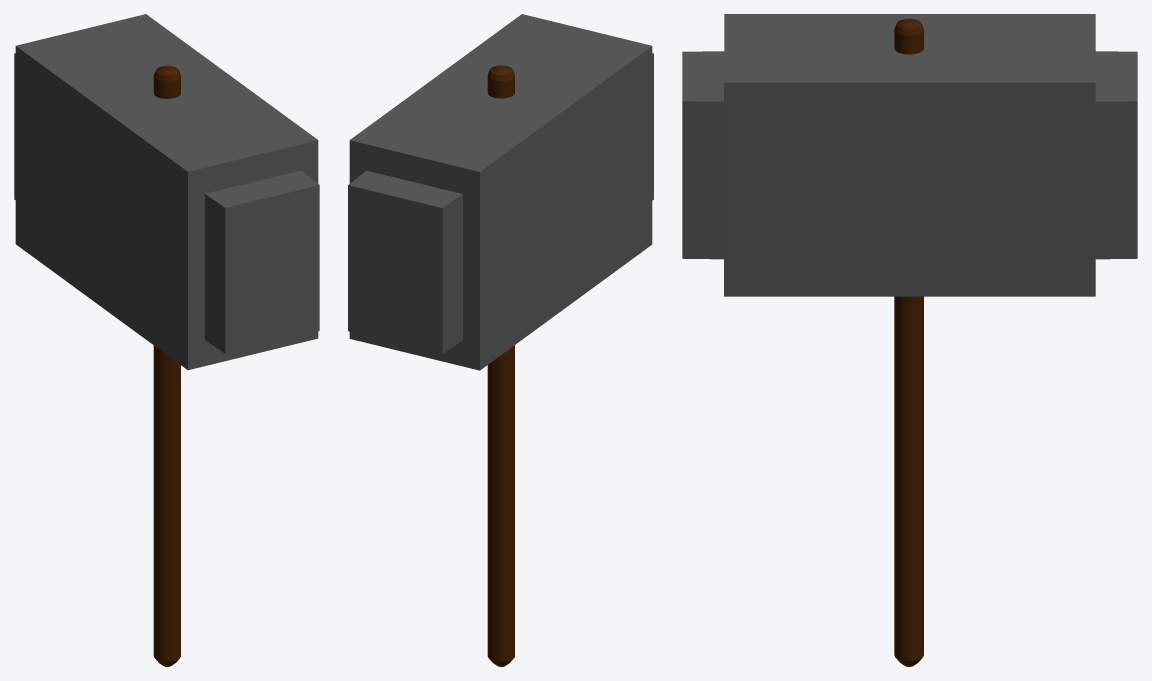
The model's file is Paladin_Hammer_Projectile.fbx.
The picture shows the model from 3 angles, left to right: view 1: azimuth 30°, elevation 25°; view 2: azimuth 150°, elevation 25°; view 3: azimuth 270°, elevation 25°; orthographic projection. The views are drawn at different scales.
Parts seen in each view (by area): view 1: polySurface1, pCylinder1; view 2: polySurface1, pCylinder1; view 3: polySurface1, pCylinder1.
Part boxes in pixels (bbox=[...]): polySurface1: bbox=[14, 14, 319, 370]; pCylinder1: bbox=[153, 65, 180, 666]; polySurface1: bbox=[348, 14, 653, 370]; pCylinder1: bbox=[487, 65, 514, 666]; polySurface1: bbox=[682, 14, 1137, 296]; pCylinder1: bbox=[894, 18, 923, 666].
Size of the model in its own units: 1.37 by 6 by 3.85.
